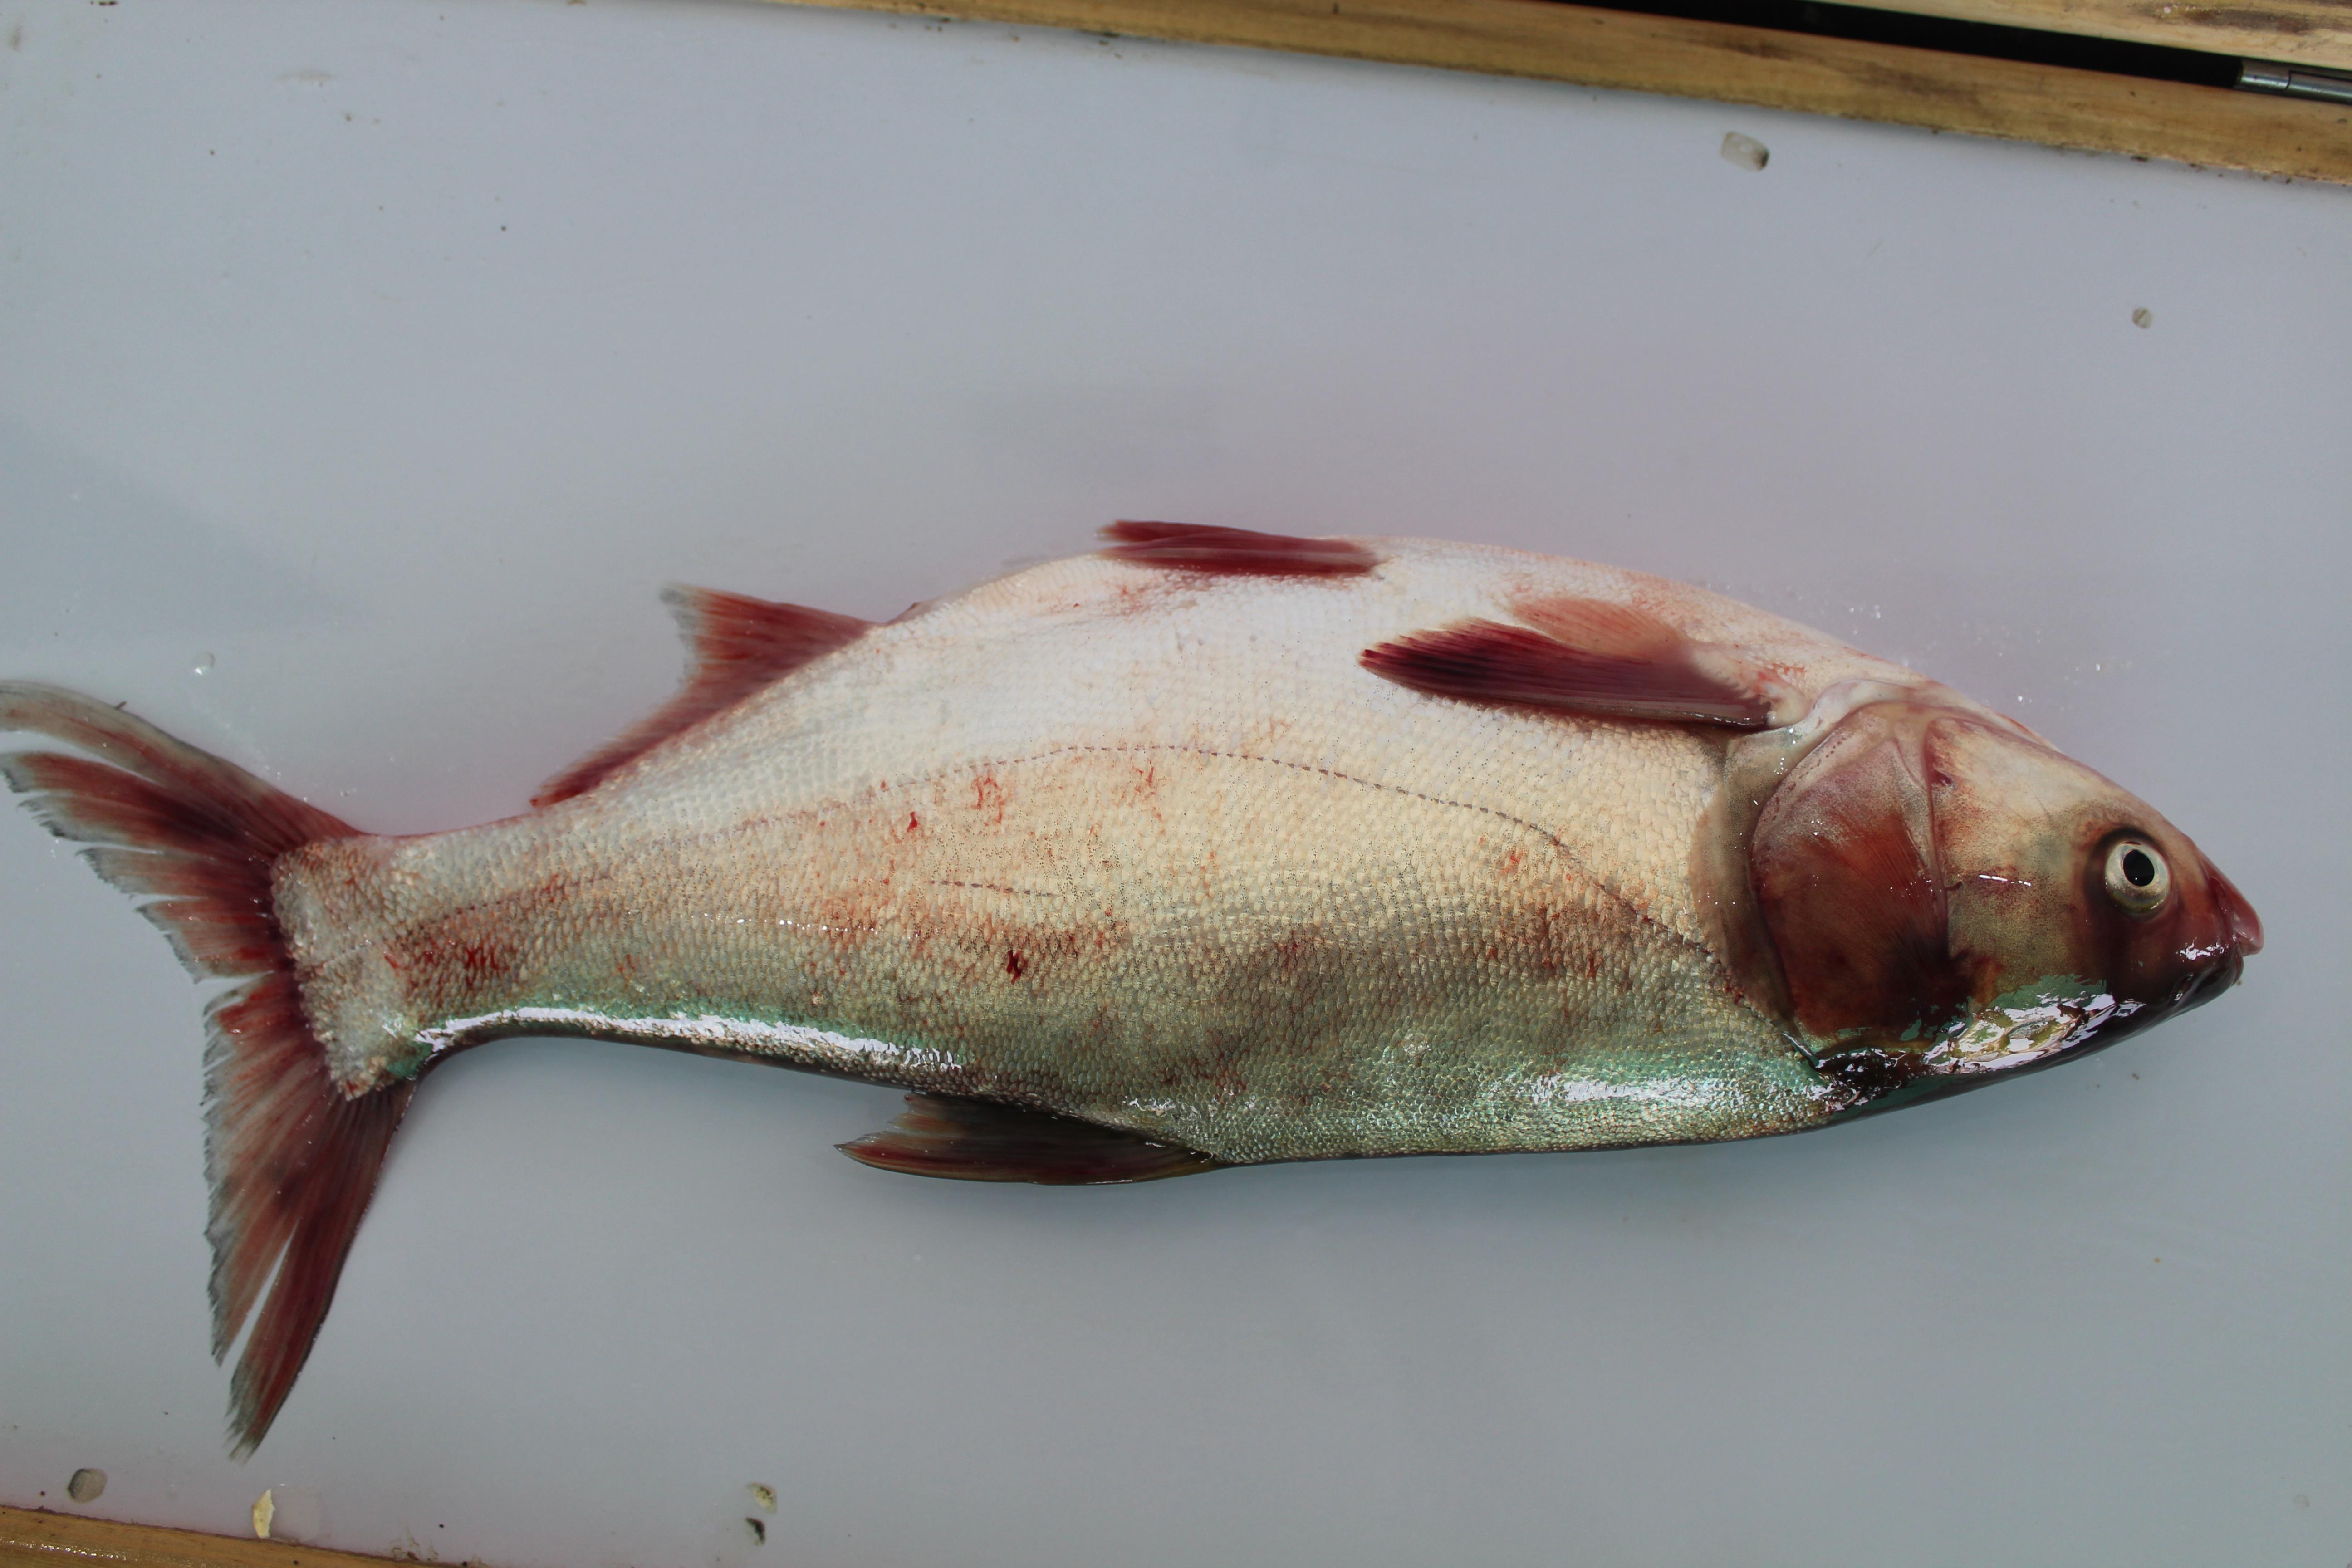Silver Carp: (14, 453, 2320, 1442)
